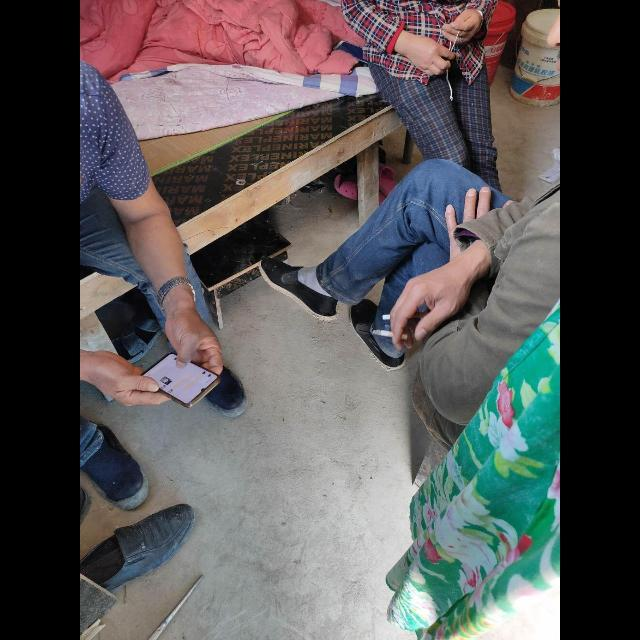rokok: (370, 327, 410, 341)
